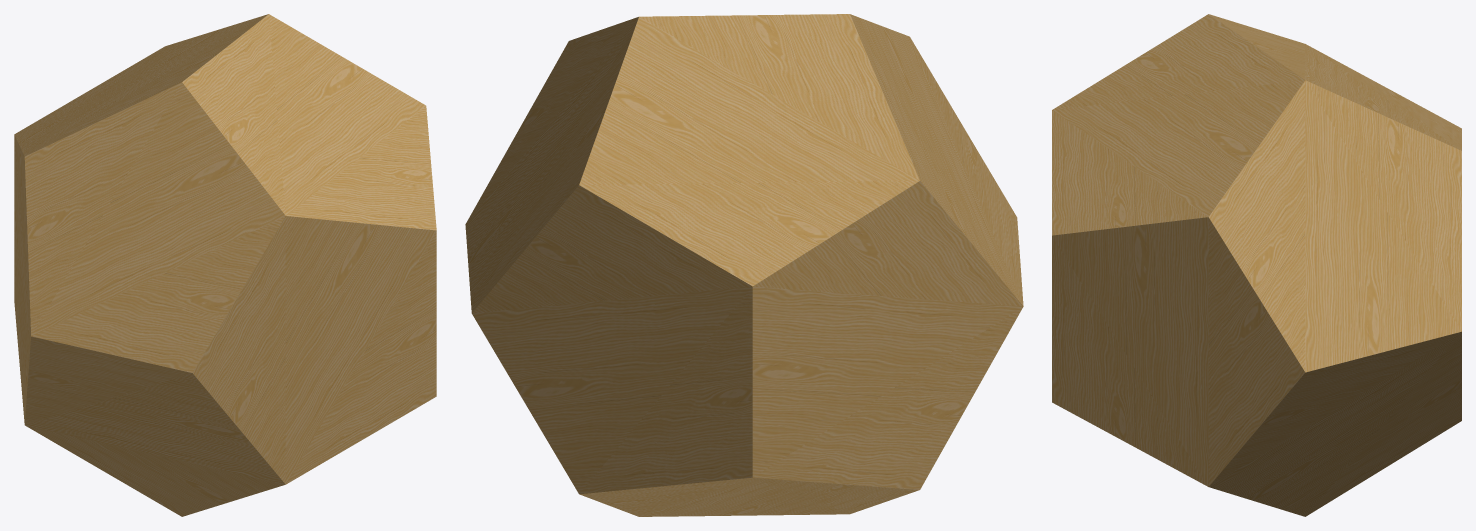
The model's file is Dodecahedron.glb.
3 views of the same model, side by side, from view 1: azimuth 30°, elevation 25°; view 2: azimuth 150°, elevation 25°; view 3: azimuth 270°, elevation 25° (orthographic). The views are drawn at different scales.
Visible parts, largest first — view 1: 000_model; view 2: 000_model; view 3: 000_model.
Part boxes in pixels (x1=…): 000_model: x1=14, y1=14, x2=436, y2=516; 000_model: x1=465, y1=14, x2=1023, y2=516; 000_model: x1=1052, y1=14, x2=1461, y2=516.
Size of the model in its own units: 4.13 by 3.93 by 3.34.
1 material, 1 textured.
